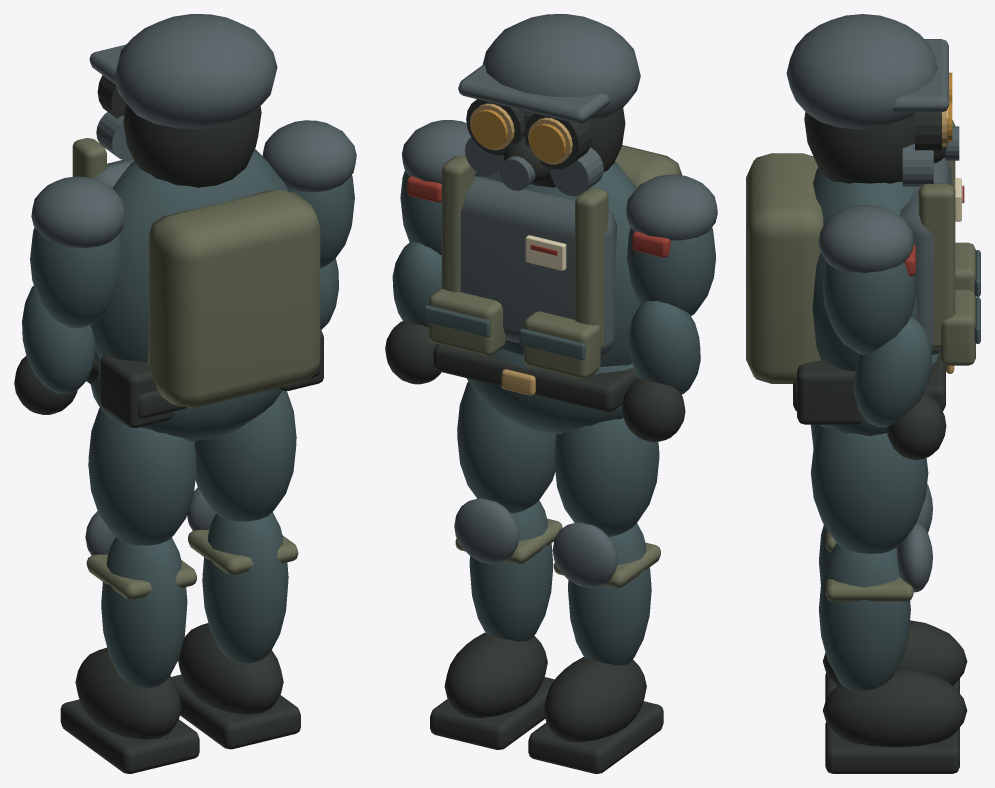
Rendered from inspector.glb.
The picture shows the model from 3 angles, left to right: view 1: azimuth 30°, elevation 25°; view 2: azimuth 150°, elevation 25°; view 3: azimuth 270°, elevation 25°; orthographic projection. The views are drawn at different scales.
Parts seen in each view (by area): view 1: Trunk, LeftLeg, RightLeg, LeftArm, RightArm; view 2: Trunk, LeftLeg, RightLeg, LeftArm, RightArm; view 3: Trunk, RightLeg, RightArm, LeftLeg.
Boxes of the visible parts, <box> form: Trunk: <box>72,14,323,441</box>; LeftLeg: <box>60,408,199,773</box>; RightLeg: <box>171,390,300,749</box>; LeftArm: <box>14,176,125,414</box>; RightArm: <box>262,120,356,330</box>; Trunk: <box>424,14,682,434</box>; LeftLeg: <box>528,418,663,773</box>; RightLeg: <box>430,381,562,749</box>; LeftArm: <box>622,174,717,442</box>; RightArm: <box>385,120,477,384</box>; Trunk: <box>746,14,980,435</box>; RightLeg: <box>810,426,967,773</box>; RightArm: <box>818,205,946,459</box>; LeftLeg: <box>810,424,967,700</box>.
Bounding box in the file's own units: 0.909 × 2 × 0.599.
